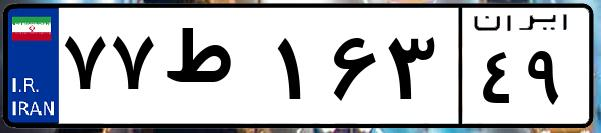1: (270, 28, 330, 110)
3: (385, 28, 445, 110)
4: (475, 38, 525, 113)
6: (330, 28, 385, 110)
7: (57, 26, 110, 100), (110, 28, 158, 98)
9: (525, 38, 570, 115)
ط: (158, 20, 270, 120)
